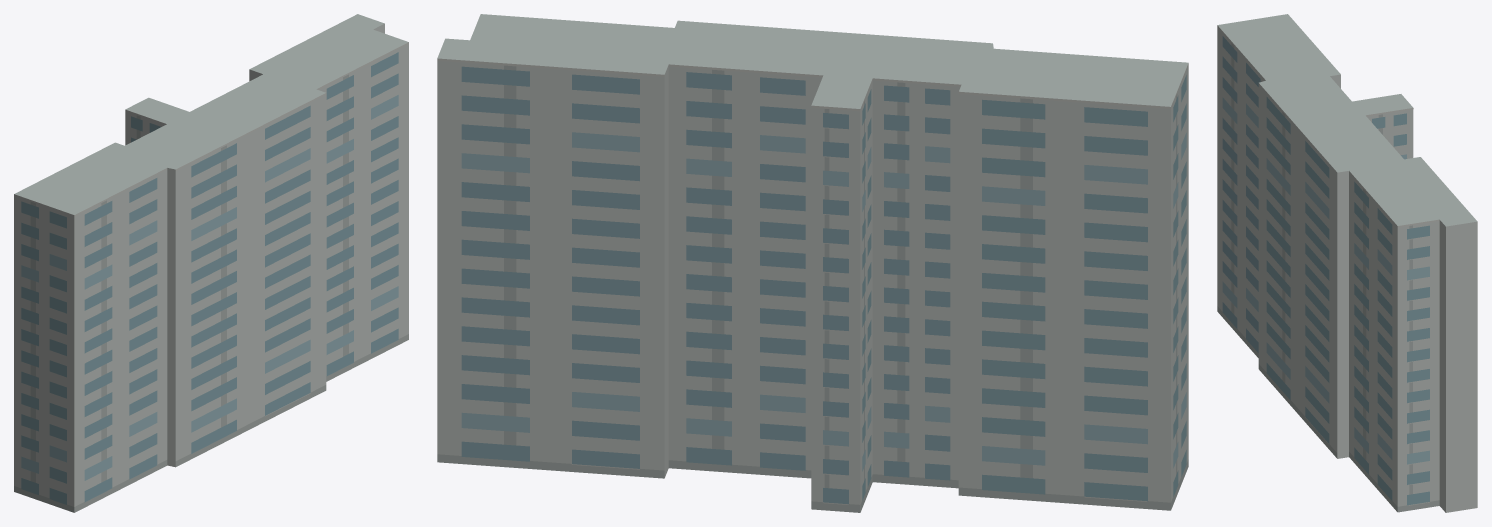
Rendered from residential-bb9cc4ea-0e55-4747-8b0f-c72ff31cede0.glb.
3 renders of one model, left to right at view 1: azimuth 30°, elevation 25°; view 2: azimuth 150°, elevation 25°; view 3: azimuth 270°, elevation 25°, orthographic. The views are drawn at different scales.
Parts seen in each view (by area): view 1: residential-bb9cc4ea-0e55-4747-8b0f-c72ff31cede0.tmp; view 2: residential-bb9cc4ea-0e55-4747-8b0f-c72ff31cede0.tmp; view 3: residential-bb9cc4ea-0e55-4747-8b0f-c72ff31cede0.tmp.
Boxes of the visible parts, x1,y1,x2,y2 form: residential-bb9cc4ea-0e55-4747-8b0f-c72ff31cede0.tmp: [14, 14, 408, 512]; residential-bb9cc4ea-0e55-4747-8b0f-c72ff31cede0.tmp: [437, 14, 1188, 512]; residential-bb9cc4ea-0e55-4747-8b0f-c72ff31cede0.tmp: [1217, 14, 1477, 512].
Bounding box in the file's own units: 67.98 × 42.7 × 35.19.
